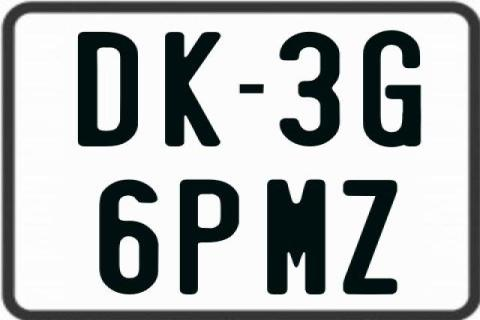0: (278, 31, 344, 147), (99, 177, 161, 297)
D: (78, 31, 144, 146)
G: (363, 29, 421, 145)
K: (162, 31, 223, 149)
M: (264, 177, 326, 296)
P: (180, 177, 245, 292)
Z: (343, 178, 399, 298)
